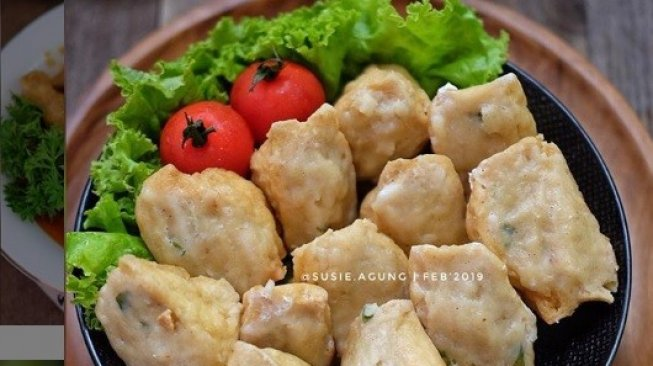Tahu: (491, 125, 592, 319), (264, 98, 365, 247), (428, 70, 532, 195), (352, 72, 420, 169)
